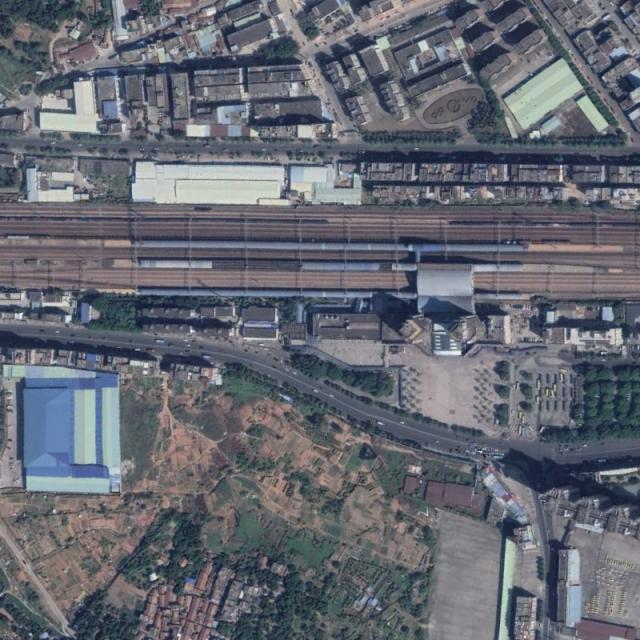vehicle: (526, 423, 534, 431), (538, 426, 545, 433), (203, 354, 212, 359), (545, 388, 550, 397), (155, 339, 165, 343), (560, 368, 568, 373), (518, 425, 522, 434), (522, 426, 525, 438), (538, 379, 541, 390), (550, 390, 554, 398), (559, 374, 563, 382), (378, 421, 384, 426), (598, 459, 606, 462), (518, 412, 522, 418), (516, 382, 519, 390), (536, 397, 539, 404), (554, 384, 556, 392)
